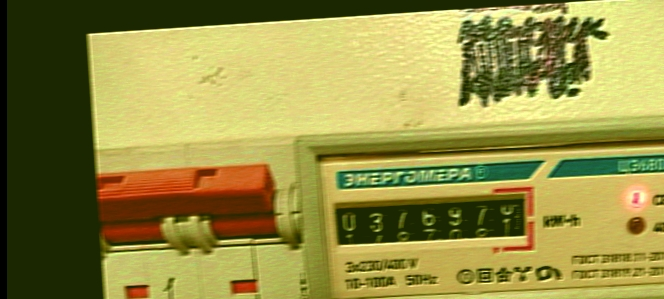0: (342, 211, 357, 234)
1: (500, 218, 514, 239)
3: (369, 212, 385, 235)
6: (420, 205, 437, 229)
7: (394, 208, 410, 231), (475, 204, 490, 228)
9: (447, 205, 463, 229)
screen: (325, 182, 540, 269)
